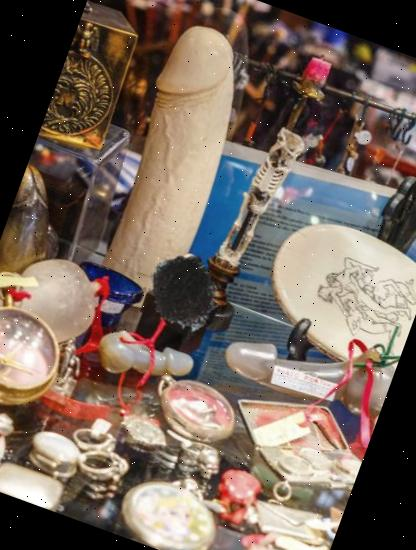Rambutan: (132, 242, 233, 344)
